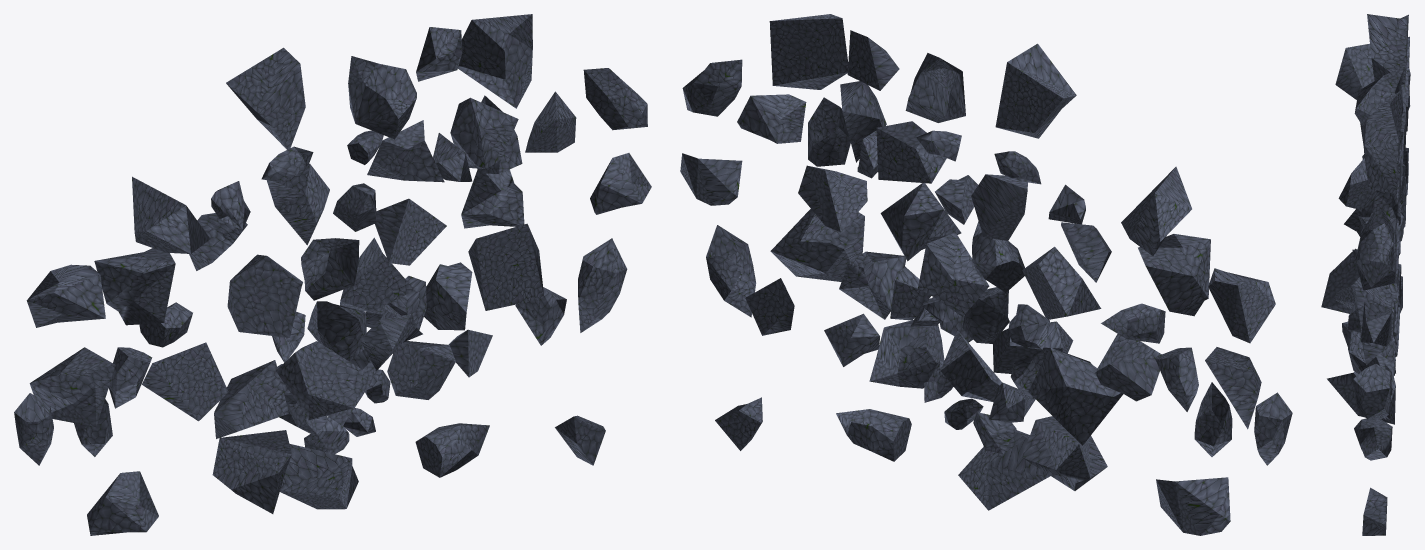
File: Rock_Break 1.fbx
The picture shows the model from 3 angles, left to right: view 1: azimuth 30°, elevation 25°; view 2: azimuth 150°, elevation 25°; view 3: azimuth 270°, elevation 25°; orthographic projection. The views are drawn at different scales.
Parts seen in each view (by area): view 1: Rock045; view 2: Rock045; view 3: Rock045.
Part boxes in pixels (box(x1,y1,x2,y2)): Rock045: box(14, 14, 651, 535); Rock045: box(680, 14, 1292, 535); Rock045: box(1321, 14, 1410, 535).
Size of the model in its own units: 161 by 117 by 23.48.
Materials: 1 (1 with a texture image).
